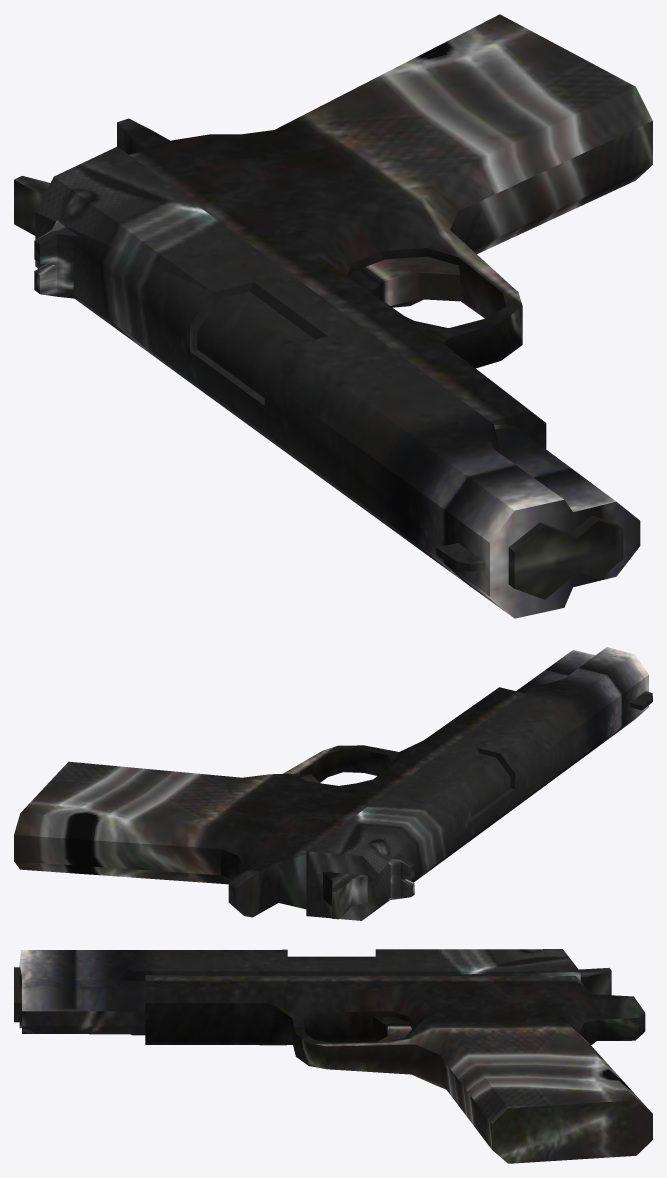
The model's file is Handgun.glb.
3 renders of one model, top to bottom at view 1: azimuth 30°, elevation 25°; view 2: azimuth 150°, elevation 25°; view 3: azimuth 270°, elevation 25°, orthographic. The views are drawn at different scales.
Parts seen in each view (by area): view 1: Handgun; view 2: Handgun; view 3: Handgun.
Part boxes in pixels (x1,y1,x2,y2): Handgun: (14,14,652,618); Handgun: (14,647,652,920); Handgun: (14,949,652,1163).
Bounding box in the file's own units: 1.7 × 0.297 × 2.69.
1 material, 1 textured.
